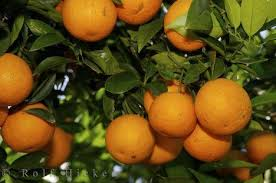orange: (193, 78, 253, 136), (3, 101, 57, 153), (146, 89, 198, 137), (104, 114, 153, 163), (164, 1, 211, 52), (59, 1, 117, 42), (1, 49, 34, 103)
